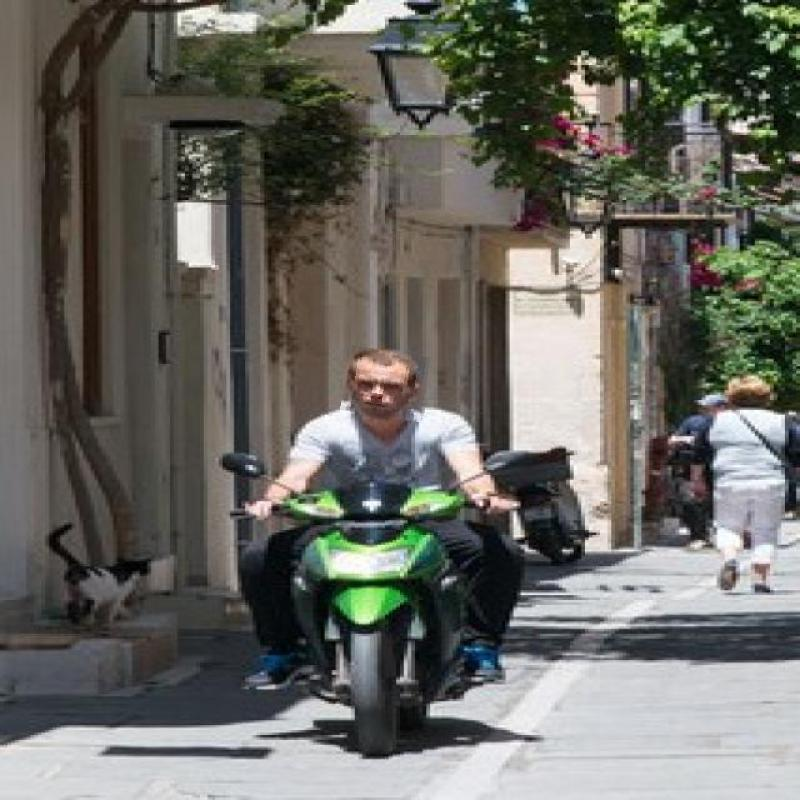nohelmet: (342, 348, 432, 420)
